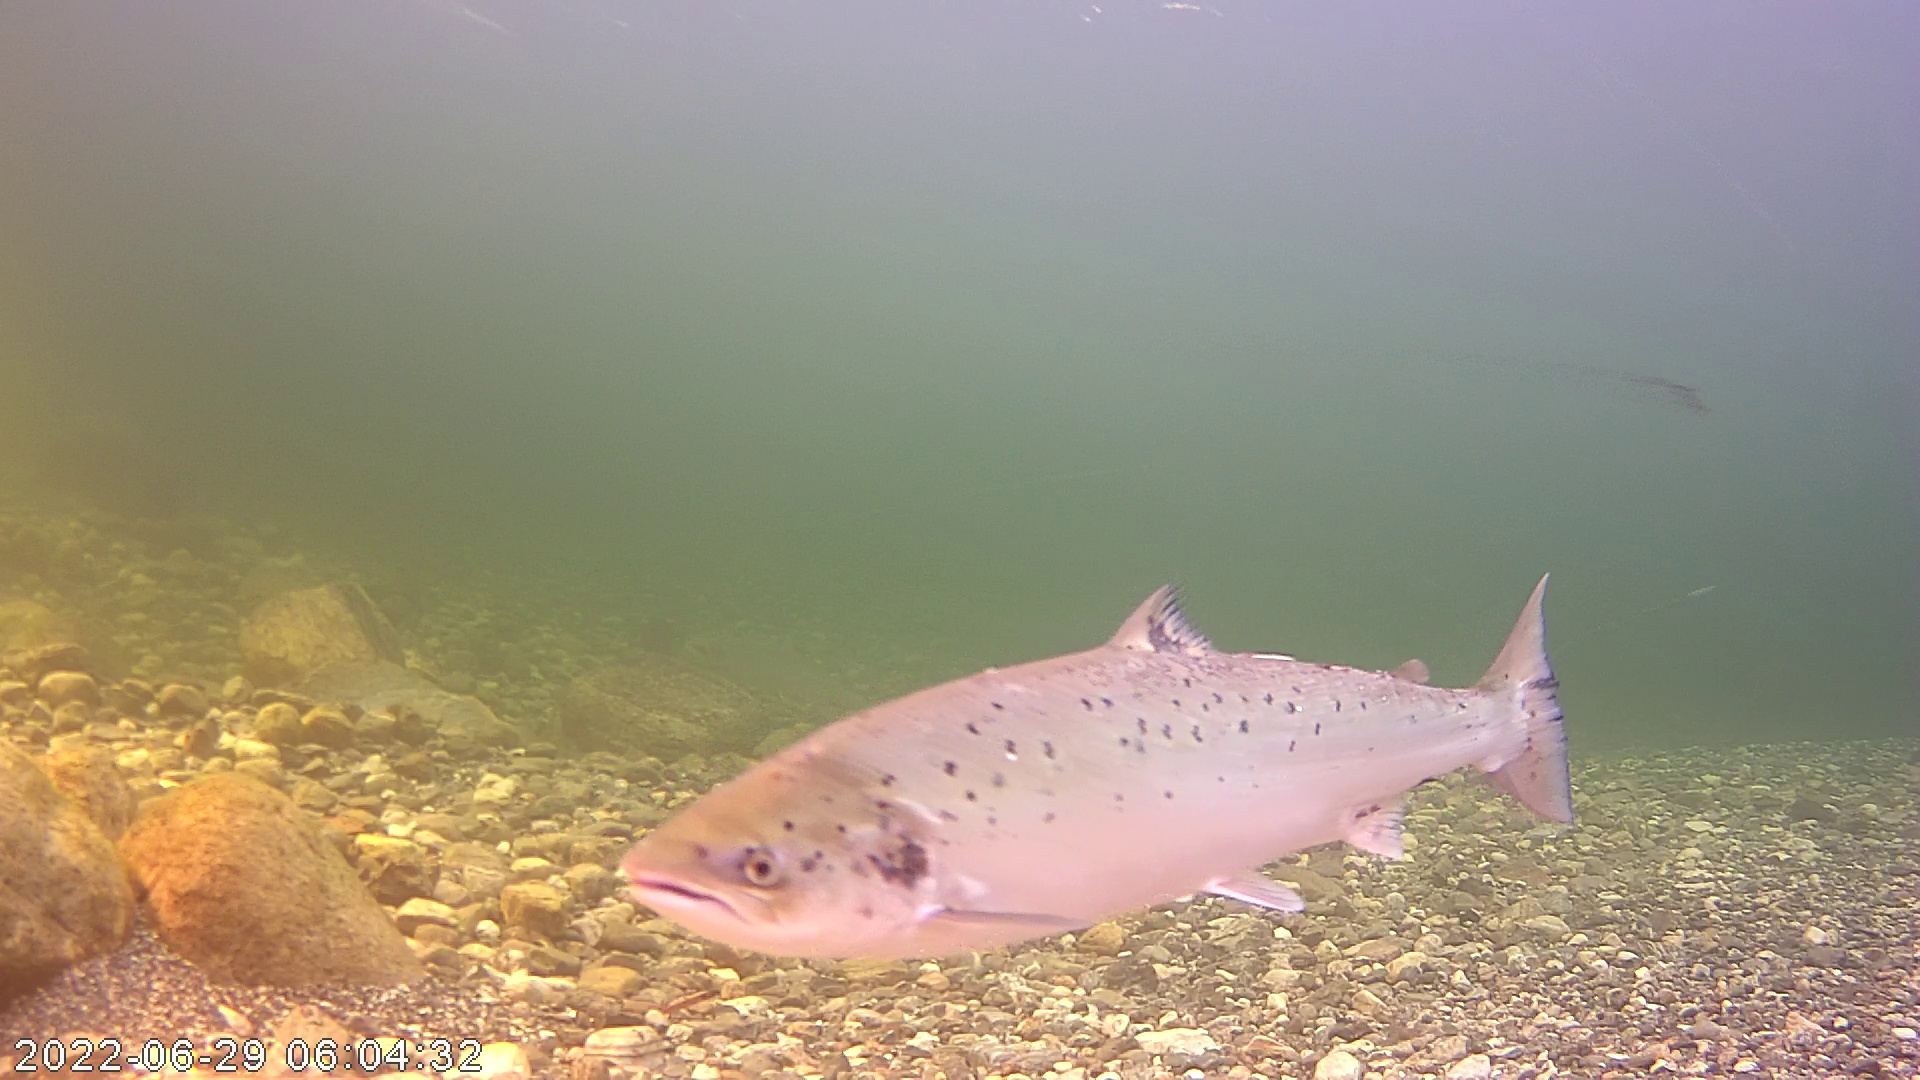salmon: (637, 509, 1594, 957)
